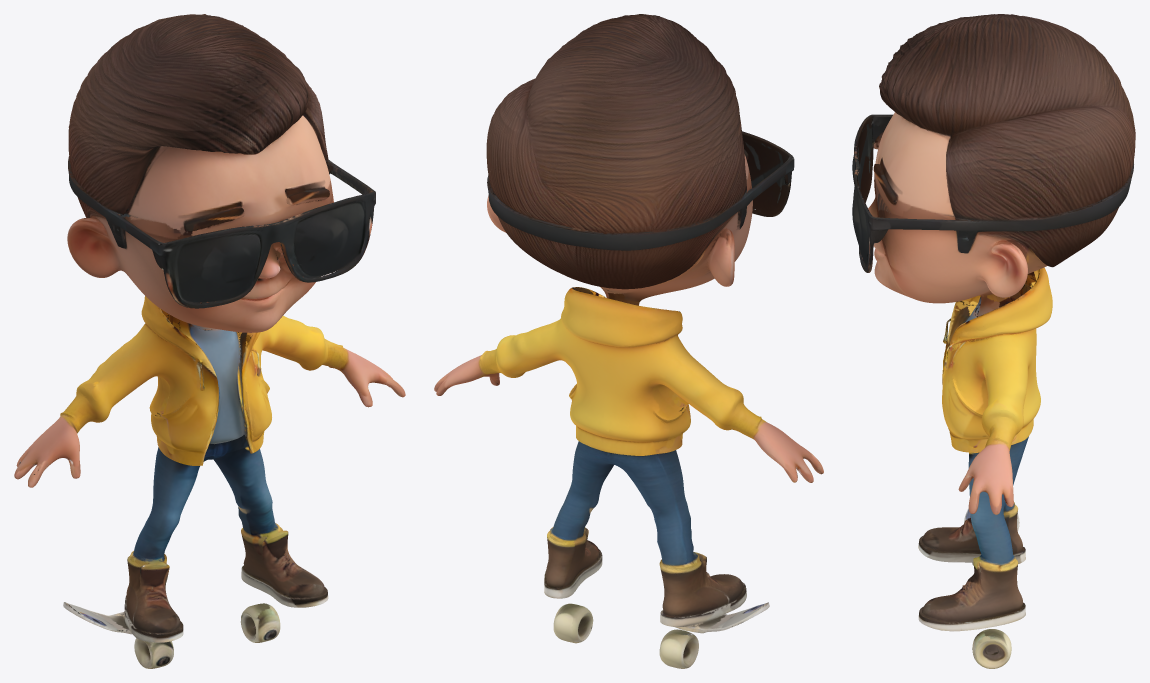
Rendered from player_game.glb.
3 views of the same model, side by side, from view 1: azimuth 30°, elevation 25°; view 2: azimuth 150°, elevation 25°; view 3: azimuth 270°, elevation 25° (orthographic).
Visible parts, largest first — view 1: model; view 2: model; view 3: model.
Part boxes in pixels (box(x1,y1,x2,y2)): model: box(14, 14, 405, 668); model: box(434, 14, 823, 668); model: box(852, 14, 1135, 668).
Bounding box in the file's own units: 1.21 × 1.9 × 0.7909.
1 material, 1 textured.
